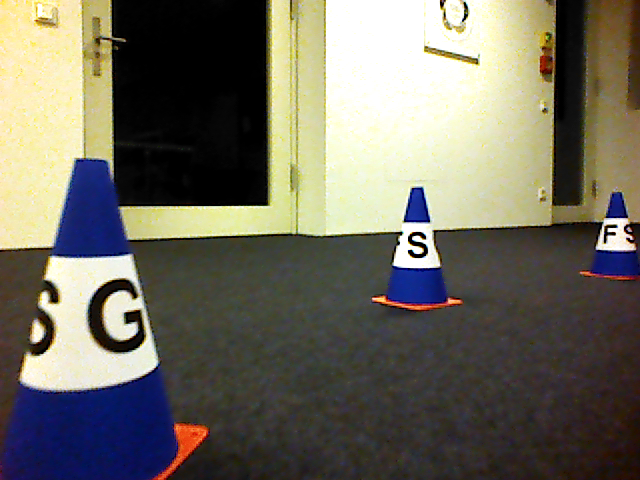bluecone: (1, 157, 211, 480), (370, 185, 463, 313), (580, 191, 640, 283)
